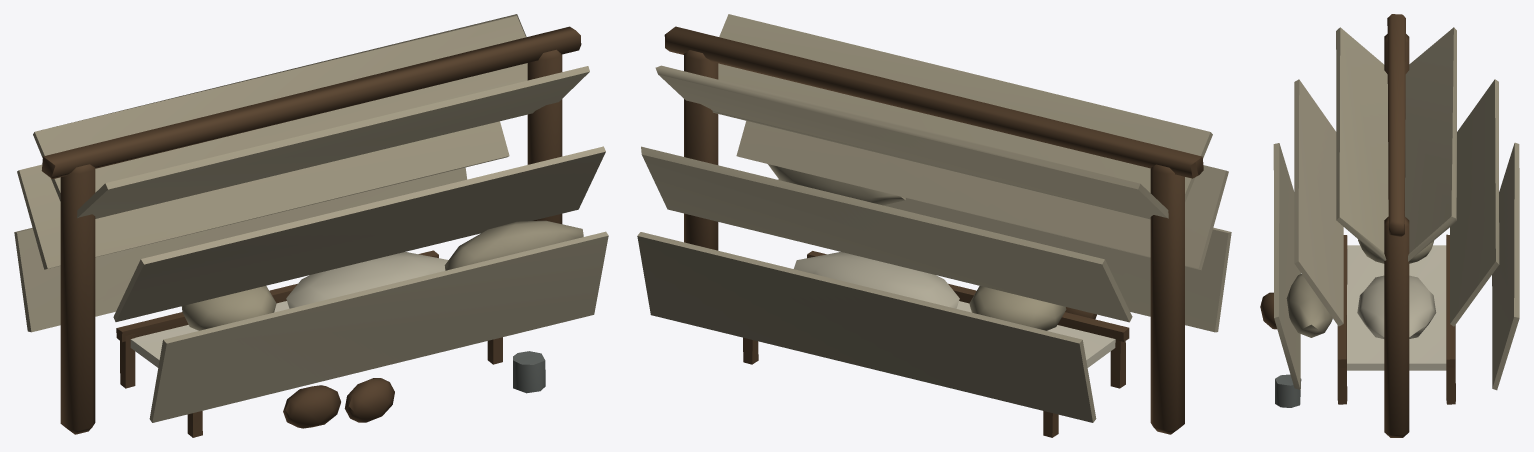
File: bunk_cots_a_lod1.glb
The picture shows the model from 3 angles, left to right: view 1: azimuth 30°, elevation 25°; view 2: azimuth 150°, elevation 25°; view 3: azimuth 270°, elevation 25°; orthographic projection. The views are drawn at different scales.
Parts seen in each view (by area): view 1: Surface.001; view 2: Surface.001; view 3: Surface.001.
Boxes of the visible parts, x1=… form: Surface.001: x1=14, y1=14, x2=608, y2=437; Surface.001: x1=637, y1=14, x2=1231, y2=437; Surface.001: x1=1260, y1=14, x2=1519, y2=437.
Size of the model in its own units: 3.2 by 1.61 by 1.67.
